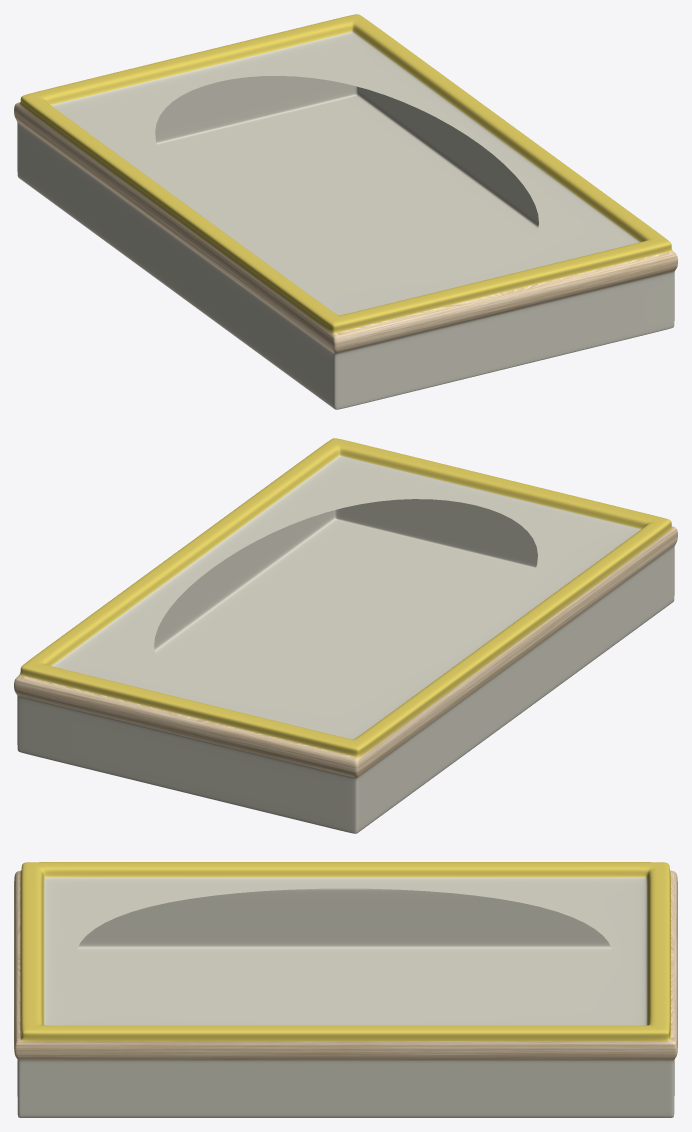
Rendered from ライトカバー2.fbx.
3 renders of one model, top to bottom at view 1: azimuth 30°, elevation 25°; view 2: azimuth 150°, elevation 25°; view 3: azimuth 270°, elevation 25°, orthographic. The views are drawn at different scales.
Parts seen in each view (by area): view 1: 立方体; view 2: 立方体; view 3: 立方体.
Part boxes in pixels (x1,y1,x2,y2): 立方体: (14,14,677,409); 立方体: (14,438,677,833); 立方体: (14,862,677,1117).
Size of the model in its own units: 0.4367 by 0.1029 by 0.7081.
